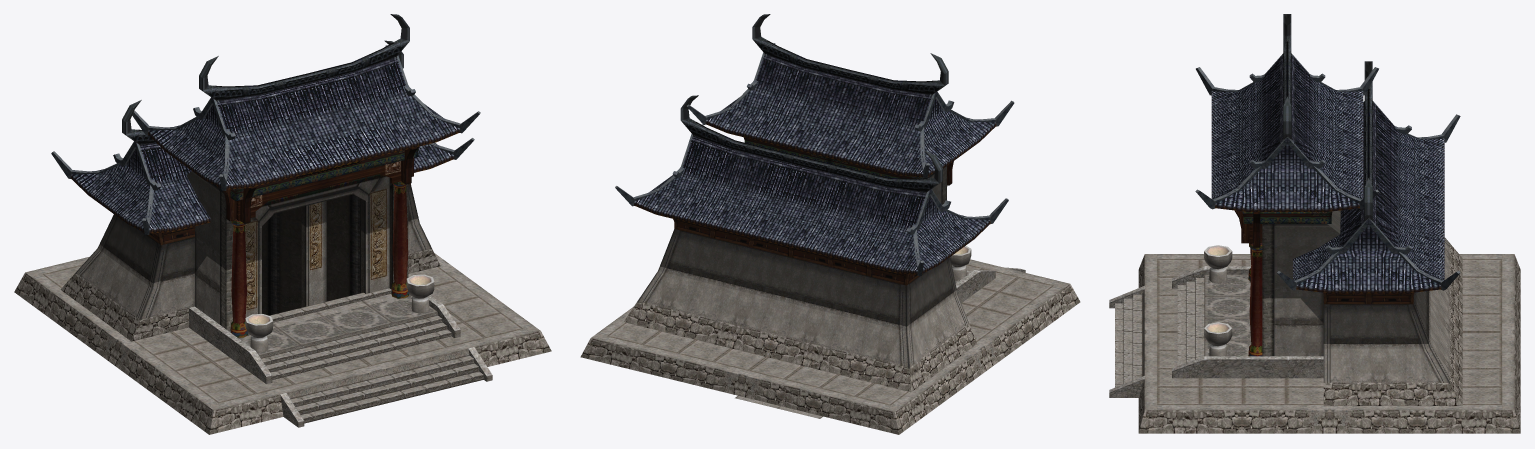
Rendered from spider_dungeongate_up.glb.
3 renders of one model, left to right at view 1: azimuth 30°, elevation 25°; view 2: azimuth 150°, elevation 25°; view 3: azimuth 270°, elevation 25°, orthographic. The views are drawn at different scales.
Visible parts, largest first — view 1: spider_dungeongate_up01; view 2: spider_dungeongate_up01; view 3: spider_dungeongate_up01.
Boxes of the visible parts, bbox=[...] form: spider_dungeongate_up01: bbox=[14, 14, 551, 434]; spider_dungeongate_up01: bbox=[580, 14, 1080, 434]; spider_dungeongate_up01: bbox=[1109, 14, 1520, 433].
Bounding box in the file's own units: 16.52 × 15.98 × 17.55.
Materials: 2 (2 with a texture image).
